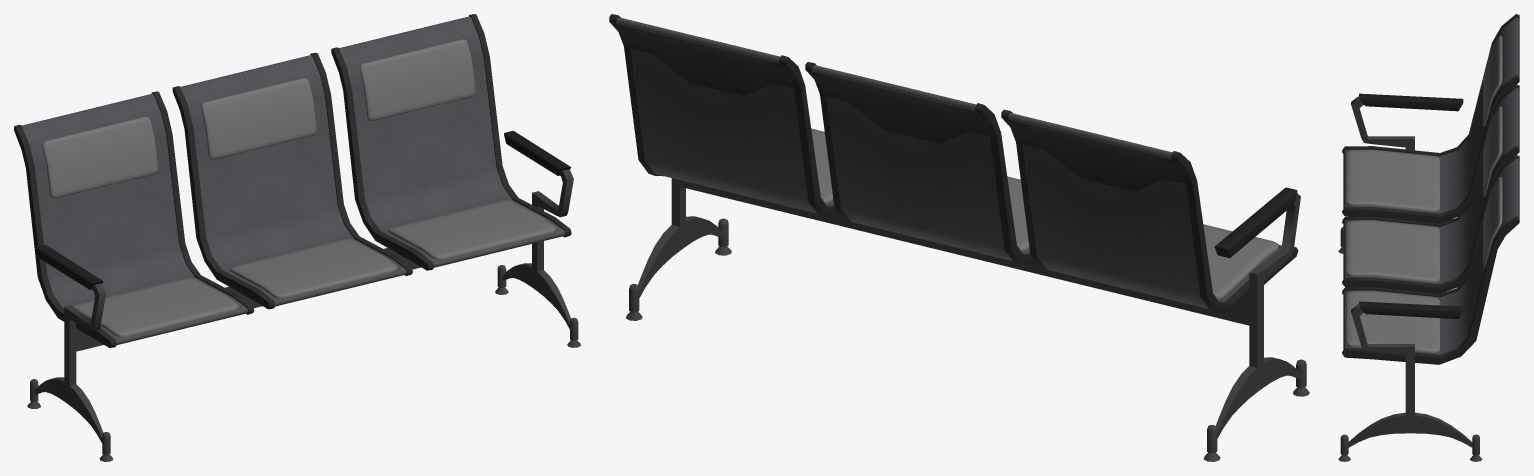
The model's file is bench.fbx.
The picture shows the model from 3 angles, left to right: view 1: azimuth 30°, elevation 25°; view 2: azimuth 150°, elevation 25°; view 3: azimuth 270°, elevation 25°; orthographic projection. The views are drawn at different scales.
Visible parts, largest first — view 1: bench seats, bench support, bench arms; view 2: bench seats, bench support, bench arms; view 3: bench seats, bench arms, bench support.
Boxes of the visible parts, x1,y1,x2,y2 form: bench seats: [14, 14, 571, 347]; bench support: [27, 241, 580, 461]; bench arms: [36, 131, 573, 331]; bench seats: [609, 14, 1298, 312]; bench support: [626, 178, 1309, 461]; bench arms: [1214, 187, 1300, 299]; bench seats: [1342, 14, 1519, 364]; bench arms: [1351, 93, 1463, 365]; bench support: [1338, 219, 1482, 461].
Bounding box in the file's own units: 160 × 83.92 × 57.71.
